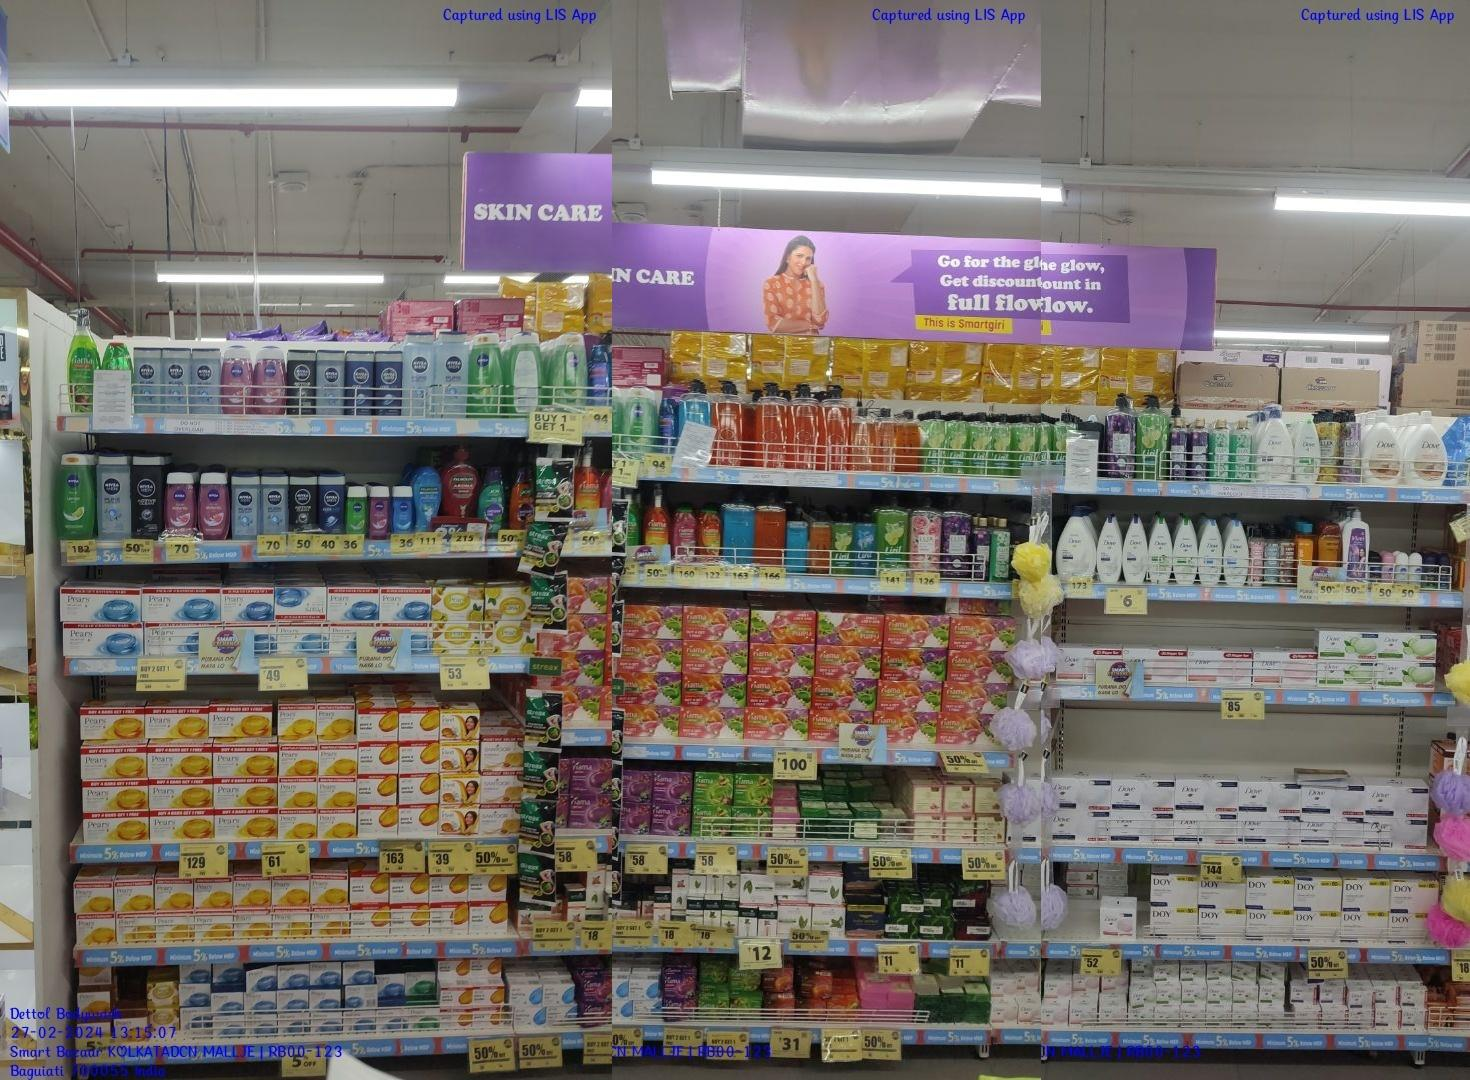Dove_Deep_Moisture_Body_Wash_250ML: (1098, 515, 1121, 583), (1124, 515, 1146, 583)
Dove_Gentle_Exfoliating_Body_Wash_250ML: (1225, 519, 1249, 588), (1198, 519, 1222, 585)
Dove_Refreshing_Body_Wash_250ML: (1294, 418, 1320, 484), (1174, 517, 1197, 587), (1150, 517, 1172, 583)
Fiama_Shower_Gel_Patchouli_and_Macadamia_250ML: (673, 506, 697, 564)
Fiama_Shower_Gel_Peach_and_Avocado_250ML: (700, 507, 720, 563)
Joy_Shower_Gel_Mandarin_and_Lemongrass_250ML: (510, 466, 535, 531)
Joy_Shower_Gel_Mint_and_Eucalyptus_250ML: (479, 466, 507, 538)
Liril_Cooling_Mint_Body_Wash_250ML: (854, 513, 877, 578)
Liril_Lime_and_Tea_Tree_Oil_Body_Wash_250ML: (1013, 410, 1037, 473), (833, 514, 855, 574), (926, 411, 946, 474), (993, 410, 1012, 475), (948, 411, 968, 475), (971, 410, 991, 474)
Lux_Black_Orchid_Scent_and_Juniper_Oil_Body_Wash_245ML: (1170, 416, 1188, 479), (1189, 416, 1207, 479), (972, 516, 990, 581)
Lux_Body_Wash_Skin_Detox_Freesia_Scent_and_Alove_Vera_245ML: (1233, 417, 1253, 484), (1211, 416, 1230, 482), (992, 517, 1010, 582)
Nivea_Shower_Gel_Lemon_and_Oil_250ML: (56, 450, 94, 547), (470, 331, 503, 417), (347, 485, 369, 531)
Nivea_Shower_Gel_Waterlily_and_Oil_250ML: (256, 346, 286, 418), (199, 469, 228, 541), (163, 470, 195, 537), (221, 344, 251, 414), (370, 484, 388, 539)
Palmolive_Aroma_Moments_Feel_The_Massage_Shower_Gel_250ML: (414, 468, 439, 531)
Pears_Pure_Glycerin_and_Mint_Extracts_Body_Wash_250ML: (786, 509, 808, 572)
